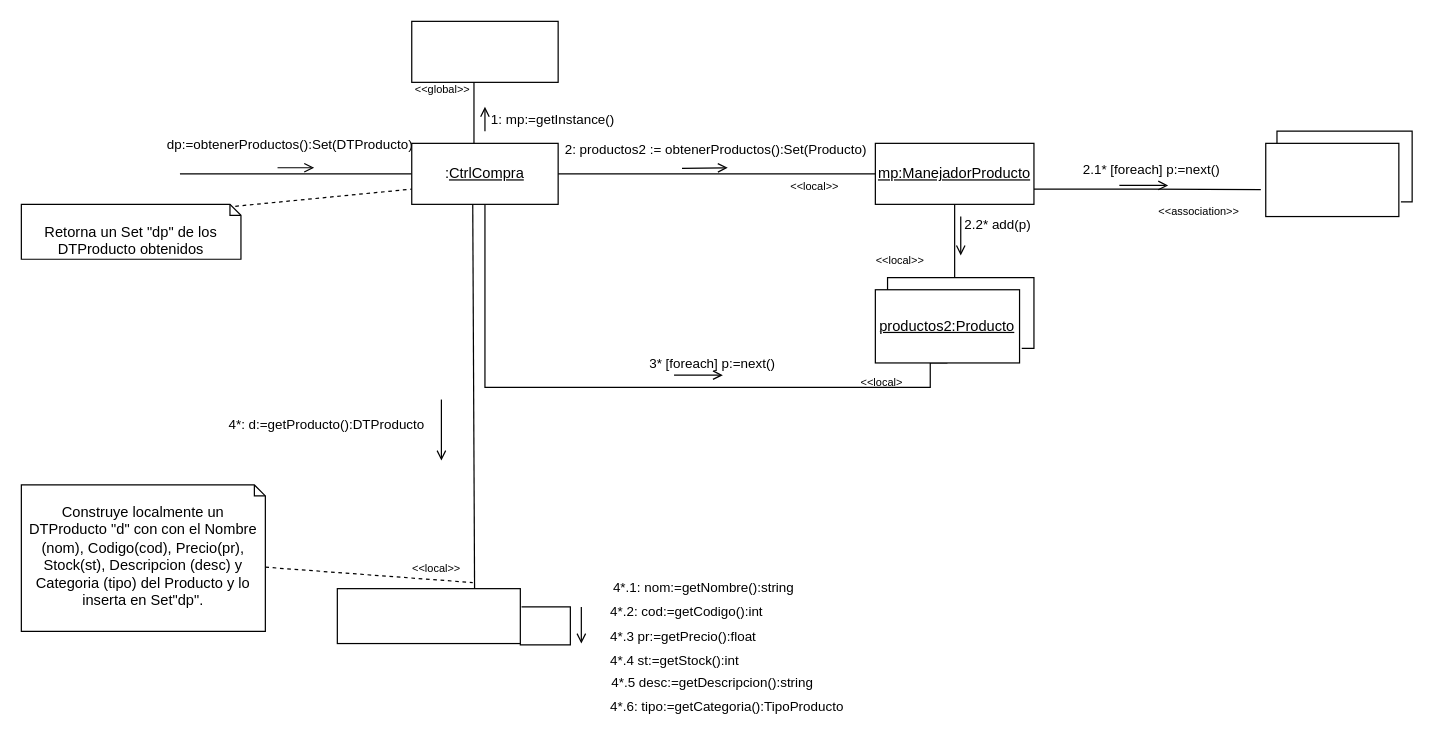
Image size: 1435x736. Some labels were removed from this diagram. Each missing label, with the centre of its shape:
ManejadorProducto: (x=484, y=51)
p:Producto: (x=428, y=615)
productos:Producto: (x=1332, y=179)
